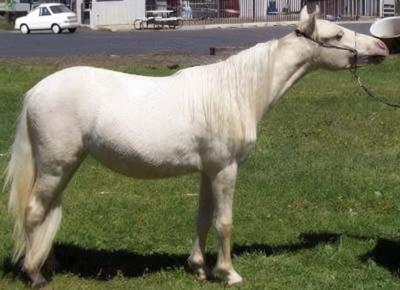cat: (7, 1, 76, 34)
horse: (1, 6, 391, 287)
